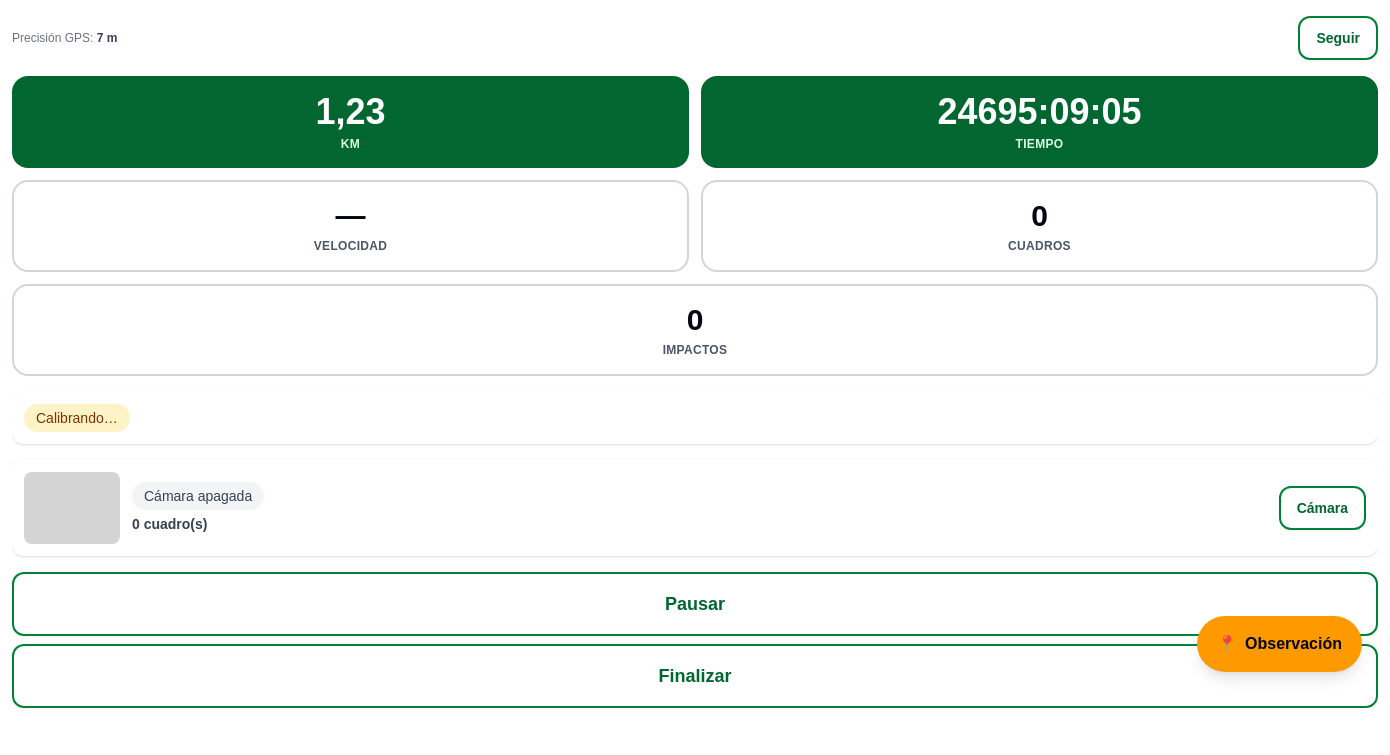
RecorridoView › avisa cuántos cuadros no pudieron subirse y que la red no se pudo verificar
Click the button "Finalizar" at (695, 676), box 12,644 -> 1378,708
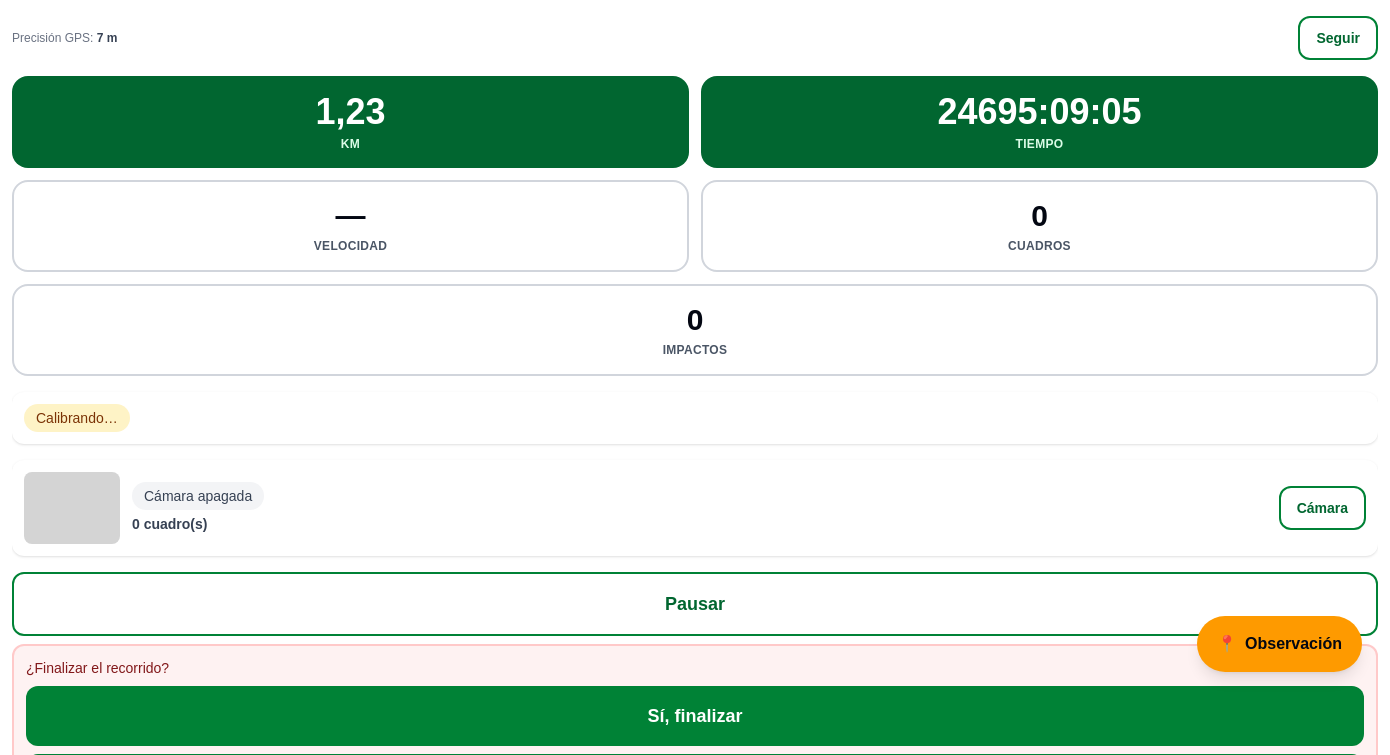
Click the button "Sí, finalizar" at (695, 716), box 26,686 -> 1364,746
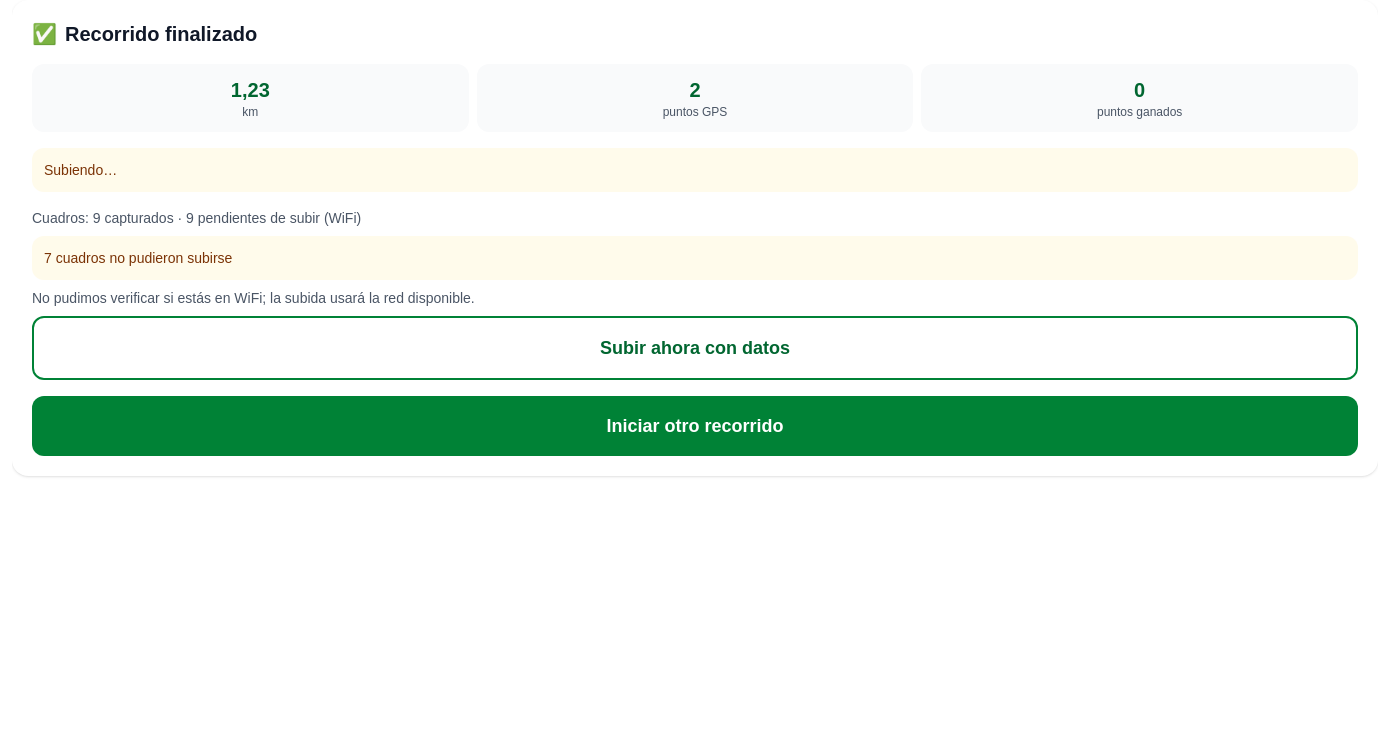
Expected: the text "7 cuadros no pudieron subirse" is shown, 32,236 -> 1358,280
Expected: the text "No pudimos verificar si estás en WiFi" is shown, 32,290 -> 475,306
